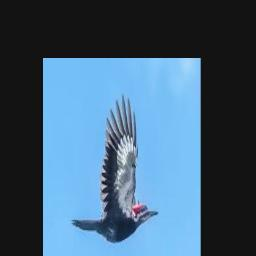Woodpecker: (71, 94, 159, 243)
